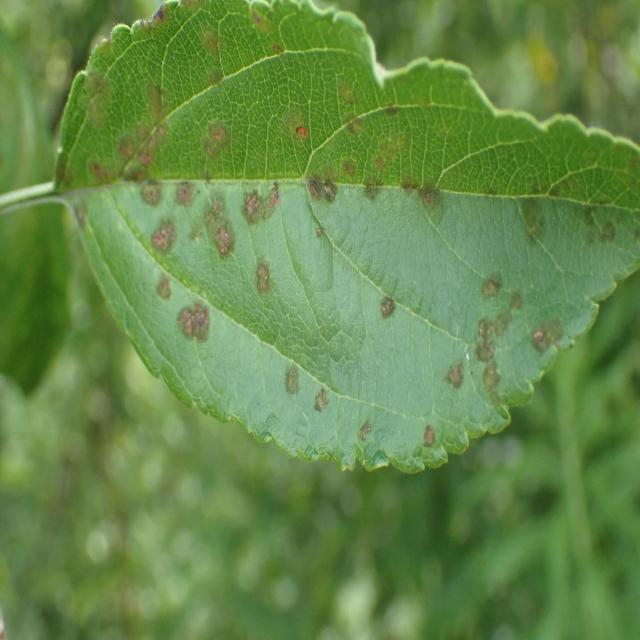scab: (67, 0, 639, 479), (70, 4, 71, 6)
